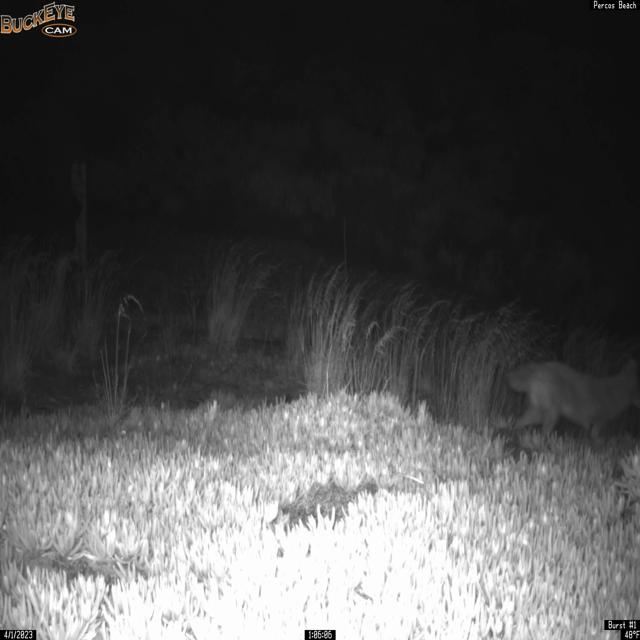coyote: (504, 355, 640, 442)
